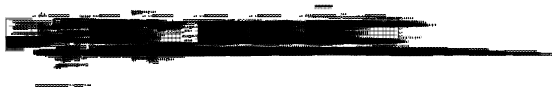corridor: (14, 43, 21, 45), (440, 47, 446, 49), (452, 47, 458, 49), (440, 55, 446, 57), (468, 47, 474, 49), (424, 55, 430, 57), (468, 55, 474, 57), (430, 47, 435, 49), (463, 47, 468, 49), (430, 55, 435, 57), (463, 55, 468, 57), (466, 59, 474, 60), (424, 59, 430, 60), (149, 61, 153, 62)
room: (120, 57, 125, 68), (437, 45, 440, 50), (443, 45, 446, 50), (452, 45, 455, 50), (458, 45, 461, 50), (507, 61, 510, 65), (47, 62, 53, 64), (158, 56, 162, 59), (448, 45, 450, 50), (425, 47, 430, 49), (159, 51, 162, 54), (122, 45, 125, 48), (501, 37, 503, 41), (424, 62, 427, 64), (349, 62, 352, 64), (320, 62, 323, 64), (471, 62, 474, 64), (11, 43, 14, 45), (424, 37, 427, 39), (349, 37, 352, 39), (515, 62, 519, 63), (47, 62, 49, 64), (274, 62, 276, 64), (127, 57, 129, 59), (396, 62, 398, 64), (141, 61, 145, 62), (291, 64, 293, 66), (303, 64, 305, 66), (314, 64, 316, 66), (281, 64, 283, 66), (211, 33, 213, 35), (501, 37, 503, 39), (442, 53, 444, 55), (454, 53, 456, 55), (438, 39, 440, 41), (291, 49, 293, 51), (303, 49, 305, 51), (367, 49, 369, 51), (379, 49, 381, 51), (285, 57, 287, 59), (285, 45, 287, 47), (367, 37, 369, 39), (291, 37, 293, 39), (303, 37, 305, 39), (379, 37, 381, 39), (454, 39, 456, 41), (442, 39, 444, 41), (274, 45, 276, 47), (424, 57, 426, 59), (472, 45, 474, 47), (472, 57, 474, 59), (321, 45, 323, 47), (321, 57, 323, 59), (396, 57, 398, 59), (396, 45, 398, 47), (281, 53, 283, 55), (314, 53, 316, 55), (356, 53, 358, 55), (389, 53, 391, 55), (356, 49, 358, 51), (389, 49, 391, 51), (281, 49, 283, 51), (314, 49, 316, 51), (432, 49, 434, 51), (362, 39, 364, 41), (287, 39, 289, 41), (281, 37, 283, 39), (389, 37, 391, 39), (291, 57, 293, 59), (303, 57, 305, 59), (442, 57, 444, 59), (379, 45, 381, 47), (442, 45, 444, 47), (356, 37, 358, 39), (367, 57, 369, 59), (379, 57, 381, 59), (454, 57, 456, 59), (291, 45, 293, 47), (303, 45, 305, 47), (367, 45, 369, 47), (454, 45, 456, 47), (314, 37, 316, 39), (454, 37, 456, 39), (442, 37, 444, 39), (440, 57, 442, 59), (289, 45, 291, 47), (289, 57, 291, 59), (365, 57, 367, 59), (456, 57, 458, 59), (365, 45, 367, 47), (381, 45, 383, 47), (456, 45, 458, 47), (381, 57, 383, 59), (440, 45, 442, 47), (291, 39, 293, 41), (303, 39, 305, 41), (367, 39, 369, 41), (379, 39, 381, 41), (454, 41, 456, 43), (442, 41, 444, 43), (291, 43, 293, 45), (303, 43, 305, 45), (367, 43, 369, 45), (379, 43, 381, 45), (471, 62, 473, 64), (466, 57, 468, 59), (466, 45, 468, 47), (316, 57, 318, 59), (316, 45, 318, 47), (391, 45, 393, 47), (391, 57, 393, 59), (430, 57, 432, 59), (279, 45, 281, 47), (430, 45, 432, 47), (279, 57, 281, 59), (381, 39, 383, 41), (291, 55, 293, 57), (303, 55, 305, 57), (367, 55, 369, 57), (379, 55, 381, 57), (454, 55, 456, 57), (316, 39, 318, 41), (391, 39, 393, 41), (314, 57, 316, 59), (389, 57, 391, 59), (432, 57, 434, 59), (281, 57, 283, 59), (281, 45, 283, 47), (356, 45, 358, 47), (314, 45, 316, 47), (356, 57, 358, 59), (389, 45, 391, 47), (432, 45, 434, 47), (279, 39, 281, 41), (426, 57, 428, 59), (351, 45, 353, 47), (426, 45, 428, 47), (316, 64, 318, 66), (319, 57, 321, 59), (470, 57, 472, 59), (319, 45, 321, 47), (470, 45, 472, 47), (281, 39, 283, 41), (356, 39, 358, 41), (389, 39, 391, 41), (312, 57, 314, 59), (387, 57, 389, 59), (314, 39, 316, 41), (312, 45, 314, 47), (387, 45, 389, 47), (314, 43, 316, 45), (356, 43, 358, 45), (281, 43, 283, 45), (389, 43, 391, 45), (448, 53, 450, 55), (358, 45, 360, 47), (358, 57, 360, 59), (351, 47, 353, 49), (351, 43, 353, 45), (426, 47, 428, 49), (312, 39, 314, 41), (387, 39, 389, 41), (319, 47, 321, 49), (319, 43, 321, 45), (358, 39, 360, 41), (158, 39, 160, 41), (320, 62, 322, 64), (448, 45, 450, 47), (448, 57, 450, 59), (448, 37, 450, 39), (448, 41, 450, 43), (448, 47, 450, 49), (448, 55, 450, 57), (454, 51, 456, 53), (291, 51, 293, 53), (367, 51, 369, 53), (379, 51, 381, 53), (442, 51, 444, 53), (303, 51, 305, 53), (365, 51, 367, 53), (440, 51, 442, 53), (289, 51, 291, 53), (381, 51, 383, 53), (456, 51, 458, 53), (279, 51, 281, 53), (430, 51, 432, 53), (428, 57, 430, 59), (428, 45, 430, 47), (468, 57, 470, 59), (468, 45, 470, 47), (281, 51, 283, 53), (314, 51, 316, 53), (356, 51, 358, 53), (432, 51, 434, 53), (312, 51, 314, 53), (358, 51, 360, 53), (122, 41, 125, 42), (159, 55, 162, 56), (9, 51, 11, 52), (128, 54, 129, 56), (128, 51, 129, 53), (427, 64, 428, 66), (470, 64, 471, 66), (454, 65, 456, 66), (367, 65, 369, 66), (379, 65, 381, 66), (442, 65, 444, 66), (438, 63, 440, 64), (362, 63, 364, 64), (465, 49, 466, 51), (367, 63, 369, 64), (379, 63, 381, 64), (442, 63, 444, 64), (454, 63, 456, 64), (432, 65, 434, 66), (389, 65, 391, 66), (356, 65, 358, 66), (381, 63, 383, 64), (306, 45, 307, 47), (306, 57, 307, 59), (391, 63, 393, 64), (291, 61, 293, 62), (379, 61, 381, 62), (442, 61, 444, 62), (454, 61, 456, 62), (303, 61, 305, 62), (367, 61, 369, 62), (355, 57, 356, 59), (355, 45, 356, 47), (306, 39, 307, 41), (465, 45, 466, 47), (465, 57, 466, 59), (389, 63, 391, 64), (356, 63, 358, 64), (432, 63, 434, 64), (355, 39, 356, 41), (291, 59, 293, 60), (303, 59, 305, 60), (454, 59, 456, 60), (367, 59, 369, 60), (379, 59, 381, 60), (442, 59, 444, 60), (120, 41, 122, 42), (276, 45, 277, 47), (395, 45, 396, 47), (395, 57, 396, 59), (463, 45, 464, 47), (463, 57, 464, 59), (465, 43, 466, 45), (434, 45, 435, 47), (434, 57, 435, 59), (358, 63, 360, 64), (281, 61, 283, 62), (314, 61, 316, 62), (356, 61, 358, 62), (389, 61, 391, 62), (432, 61, 434, 62), (456, 59, 458, 60), (381, 59, 383, 60), (365, 59, 367, 60), (440, 59, 442, 60), (276, 47, 277, 49), (276, 43, 277, 45), (395, 43, 396, 45), (448, 65, 450, 66), (389, 59, 391, 60), (432, 59, 434, 60), (314, 59, 316, 60), (281, 59, 283, 60), (356, 59, 358, 60), (396, 62, 397, 64), (308, 63, 310, 64), (287, 63, 289, 64), (291, 63, 293, 64), (303, 63, 305, 64), (448, 61, 450, 62), (316, 63, 318, 64), (279, 63, 281, 64), (448, 59, 450, 60), (314, 63, 316, 64), (281, 63, 283, 64), (283, 63, 285, 64), (312, 63, 314, 64), (391, 65, 393, 66), (306, 51, 307, 53), (355, 51, 356, 53), (278, 45, 279, 47), (353, 45, 354, 47), (318, 45, 319, 47), (393, 57, 394, 59), (318, 57, 319, 59), (393, 45, 394, 47), (465, 51, 466, 53), (463, 51, 464, 53), (434, 51, 435, 53), (230, 24, 231, 25), (238, 25, 239, 26), (239, 24, 240, 25), (465, 65, 466, 66), (355, 63, 356, 64), (434, 63, 435, 64), (306, 59, 307, 60), (465, 59, 466, 60), (355, 65, 356, 66), (236, 25, 237, 25)
staircase: (116, 27, 117, 27)
wall: (499, 67, 506, 72), (549, 67, 556, 72), (549, 37, 556, 42), (493, 67, 499, 70), (493, 37, 499, 40), (496, 32, 499, 37), (546, 32, 549, 37), (119, 32, 120, 34), (458, 37, 460, 38), (50, 53, 51, 54), (288, 37, 289, 38), (294, 37, 295, 38), (120, 31, 121, 32), (322, 56, 323, 57), (302, 37, 303, 38), (308, 37, 309, 38), (363, 37, 364, 38), (377, 37, 378, 38), (383, 37, 384, 38), (438, 37, 439, 38), (352, 54, 353, 55), (450, 53, 451, 53), (447, 53, 448, 53), (49, 59, 49, 60), (217, 61, 218, 61), (217, 58, 218, 58), (221, 61, 222, 61), (210, 61, 210, 61), (121, 62, 121, 63), (275, 61, 276, 61), (276, 59, 277, 59), (288, 38, 289, 38), (294, 38, 295, 38), (308, 38, 309, 38), (321, 61, 322, 61), (350, 61, 351, 61), (352, 59, 353, 59), (396, 61, 397, 61), (279, 66, 280, 66), (131, 30, 132, 30), (124, 68, 125, 68), (398, 56, 398, 57), (296, 53, 297, 53), (300, 53, 300, 53), (372, 53, 373, 53), (375, 53, 376, 53), (287, 53, 288, 53), (302, 38, 303, 38), (309, 53, 310, 53), (317, 66, 317, 66), (363, 38, 364, 38), (370, 37, 370, 38), (370, 38, 370, 38), (383, 38, 384, 38), (355, 66, 355, 66), (362, 53, 363, 53), (377, 38, 378, 38), (384, 53, 385, 53), (392, 66, 393, 66), (438, 38, 439, 38), (459, 38, 460, 38), (168, 64, 169, 64), (277, 55, 277, 55)
